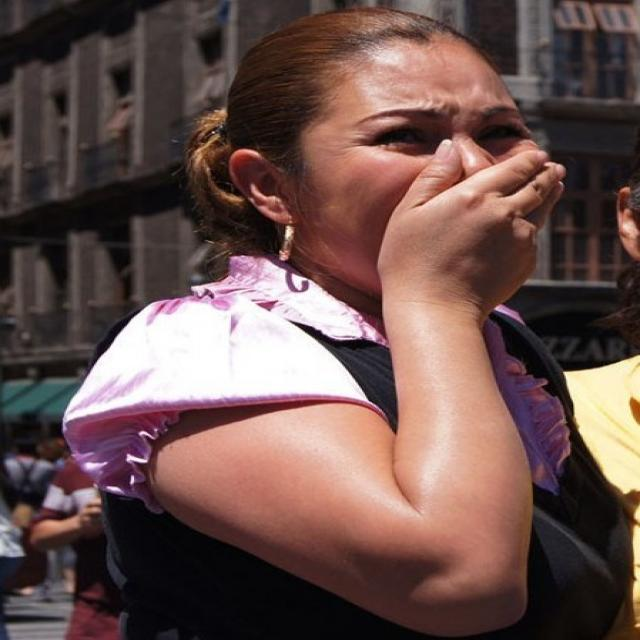nomask: (306, 44, 538, 308)
